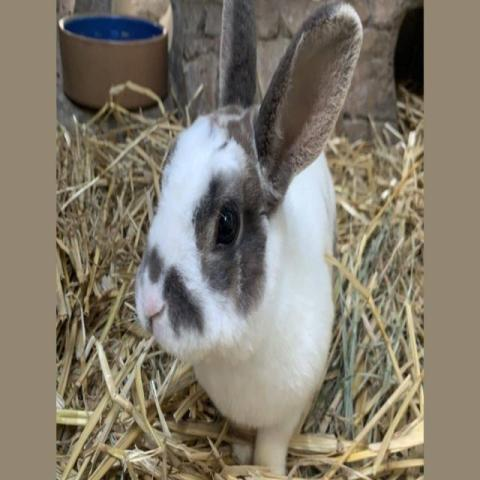small_animal: (131, 0, 366, 478)
